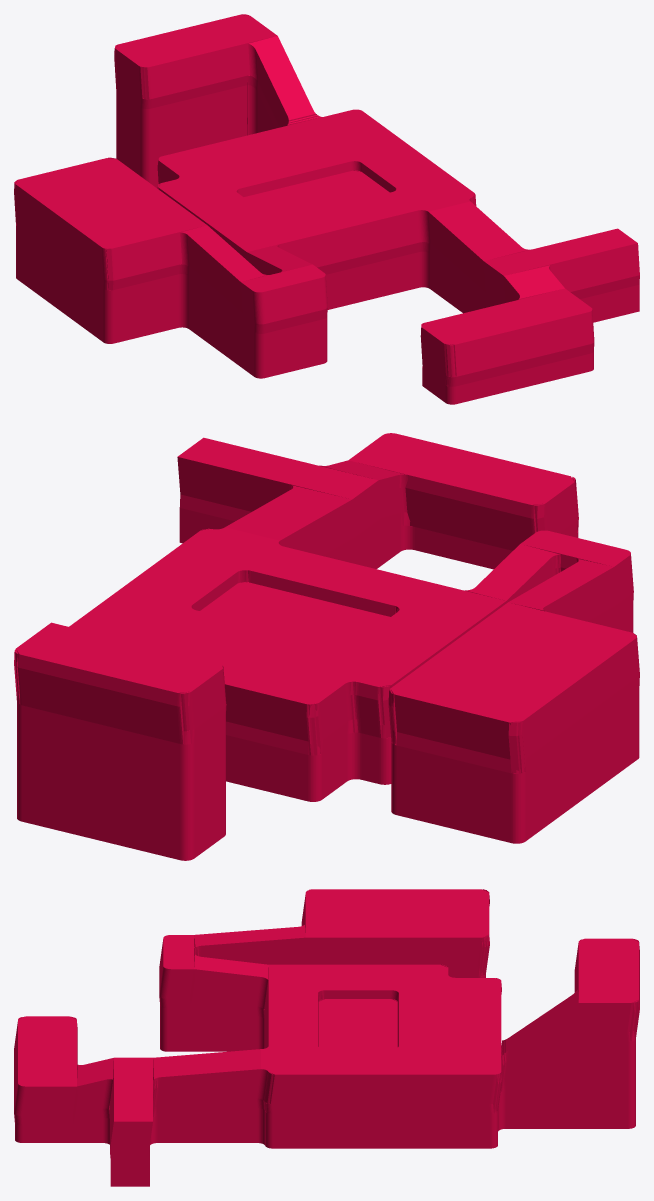
The model's file is CuevaB15.fbx.
3 renders of one model, top to bottom at view 1: azimuth 30°, elevation 25°; view 2: azimuth 150°, elevation 25°; view 3: azimuth 270°, elevation 25°, orthographic. The views are drawn at different scales.
Parts seen in each view (by area): view 1: Cube.001; view 2: Cube.001; view 3: Cube.001.
Boxes of the visible parts, x1=… form: Cube.001: x1=14, y1=14, x2=639, y2=404; Cube.001: x1=14, y1=433, x2=639, y2=860; Cube.001: x1=14, y1=889, x2=639, y2=1186.
Size of the model in its own units: 12.73 by 16.33 by 3.63.
